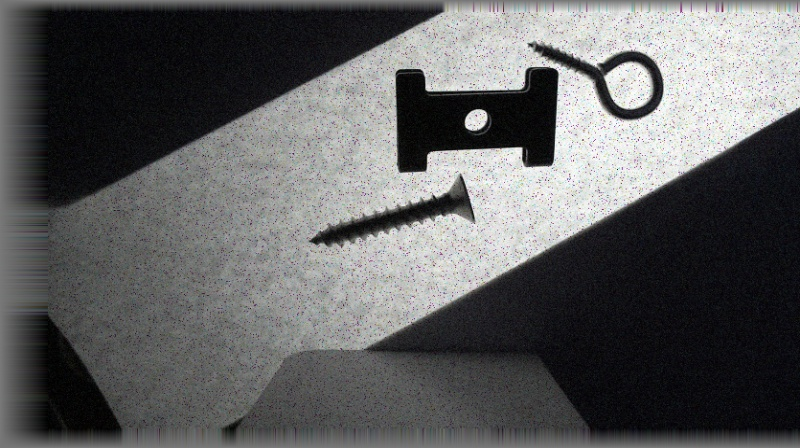O001: (526, 39, 665, 120)
O002: (392, 65, 558, 172)
S001: (309, 172, 476, 248)
